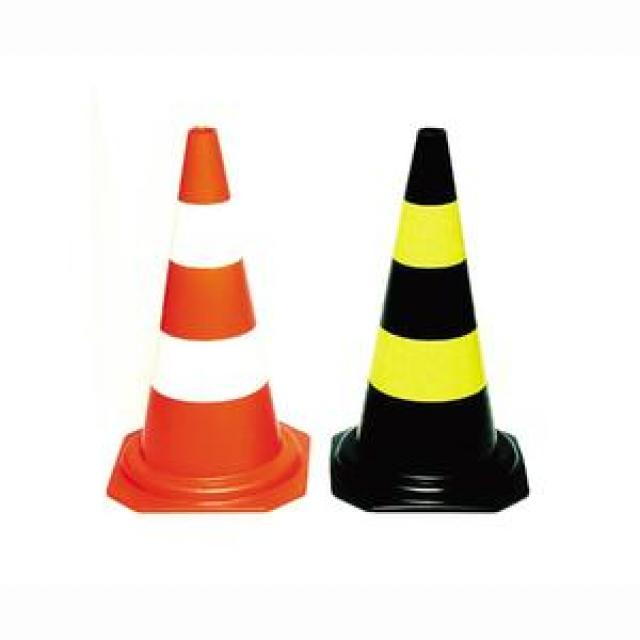cone: (115, 134, 312, 524)
